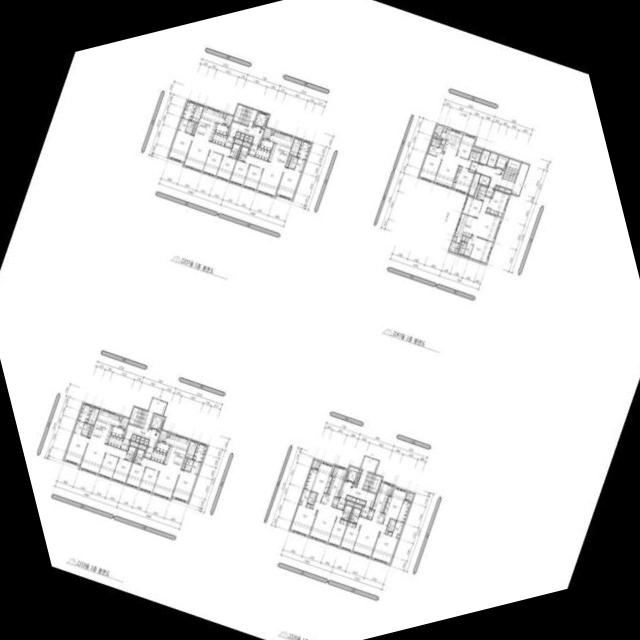background: (0, 0, 640, 640)
space_bedroom: (381, 487, 406, 525), (310, 461, 332, 502), (370, 531, 397, 563), (289, 503, 316, 535), (275, 166, 301, 199), (167, 129, 192, 162), (171, 469, 196, 502), (418, 147, 442, 181), (63, 432, 88, 464), (467, 235, 492, 262), (450, 165, 473, 193), (485, 190, 508, 216), (339, 521, 359, 550), (327, 517, 347, 546), (201, 150, 222, 175), (111, 457, 131, 483), (215, 155, 235, 180), (229, 160, 249, 185), (97, 453, 117, 478), (138, 467, 158, 492), (242, 164, 262, 189), (455, 133, 474, 158), (125, 462, 144, 487), (461, 196, 482, 217)
space_dressroom: (303, 468, 317, 490), (396, 500, 410, 522), (296, 140, 311, 159), (76, 403, 91, 422), (192, 442, 206, 462), (181, 100, 195, 120), (390, 520, 403, 537), (299, 488, 310, 506)
space_elevator: (149, 413, 164, 431), (253, 111, 268, 128), (344, 466, 358, 483), (494, 155, 507, 170)
space_elevator_hall: (123, 398, 166, 447), (338, 456, 378, 507), (475, 162, 513, 189), (227, 121, 263, 144)
space_front: (106, 434, 122, 448), (254, 146, 269, 160), (150, 449, 165, 463), (211, 132, 226, 145), (358, 505, 369, 517), (336, 497, 346, 510), (142, 446, 152, 458), (119, 438, 129, 450), (224, 136, 234, 148), (247, 144, 257, 155), (468, 161, 477, 172), (484, 187, 493, 197)
space_kitchen: (193, 106, 224, 141), (320, 465, 346, 506), (89, 408, 119, 443), (267, 130, 294, 167), (371, 481, 393, 524), (163, 433, 189, 469), (453, 213, 476, 242), (439, 128, 462, 155), (214, 123, 228, 135), (155, 441, 168, 453), (110, 426, 124, 437), (259, 139, 272, 150)
space_living_room: (78, 438, 126, 473), (139, 457, 179, 499), (182, 136, 230, 171), (244, 154, 283, 196), (351, 516, 386, 557), (308, 501, 342, 542), (433, 151, 470, 187), (471, 196, 500, 241)
space_other: (510, 162, 528, 195), (467, 172, 479, 195), (190, 103, 203, 122), (184, 440, 197, 458), (86, 406, 98, 425), (289, 137, 301, 156), (478, 149, 490, 164), (486, 152, 497, 167), (477, 174, 489, 185), (448, 241, 459, 252), (433, 124, 442, 137), (498, 186, 510, 193), (473, 184, 479, 198), (366, 508, 373, 519), (331, 496, 338, 507), (191, 122, 196, 134), (471, 146, 481, 152), (355, 498, 365, 504), (181, 457, 186, 469), (345, 495, 355, 501), (87, 425, 92, 436), (285, 155, 290, 166), (241, 141, 249, 147), (233, 138, 241, 144), (137, 443, 145, 449), (345, 500, 353, 506), (353, 503, 361, 509), (329, 466, 334, 475), (234, 131, 240, 138), (134, 435, 140, 442), (129, 441, 137, 446), (389, 487, 393, 496), (138, 437, 144, 443), (238, 133, 244, 139), (243, 134, 248, 141), (143, 438, 148, 445), (357, 469, 361, 477), (247, 136, 252, 142), (130, 434, 135, 440), (354, 478, 358, 485), (270, 129, 274, 134), (464, 237, 468, 242), (438, 144, 443, 148), (442, 127, 446, 131), (452, 236, 456, 240), (432, 132, 436, 136), (454, 248, 457, 253), (166, 432, 169, 437), (494, 185, 498, 188), (395, 534, 399, 537), (298, 500, 301, 504), (384, 530, 387, 534), (309, 504, 312, 508)
space_outdoor_room: (118, 416, 128, 428), (157, 430, 167, 441), (222, 114, 232, 125), (262, 127, 271, 139), (404, 491, 413, 501), (310, 459, 319, 469)
space_staircase: (232, 104, 256, 126), (502, 158, 519, 182), (361, 472, 381, 492), (128, 407, 147, 427)
space_toilet: (427, 137, 440, 155), (457, 241, 472, 256), (237, 145, 248, 161), (340, 504, 351, 520), (349, 507, 360, 523), (132, 448, 143, 464), (124, 445, 135, 461), (293, 157, 305, 171), (475, 185, 486, 200), (228, 143, 239, 158), (467, 150, 480, 162), (177, 117, 188, 131), (73, 420, 84, 434), (189, 460, 200, 474), (387, 518, 396, 526), (289, 155, 297, 163), (306, 496, 314, 504), (80, 428, 88, 436), (287, 161, 295, 168), (184, 126, 192, 133), (308, 491, 316, 498), (185, 458, 193, 465), (183, 464, 191, 471), (82, 423, 90, 430), (386, 524, 394, 531), (186, 120, 194, 127)
